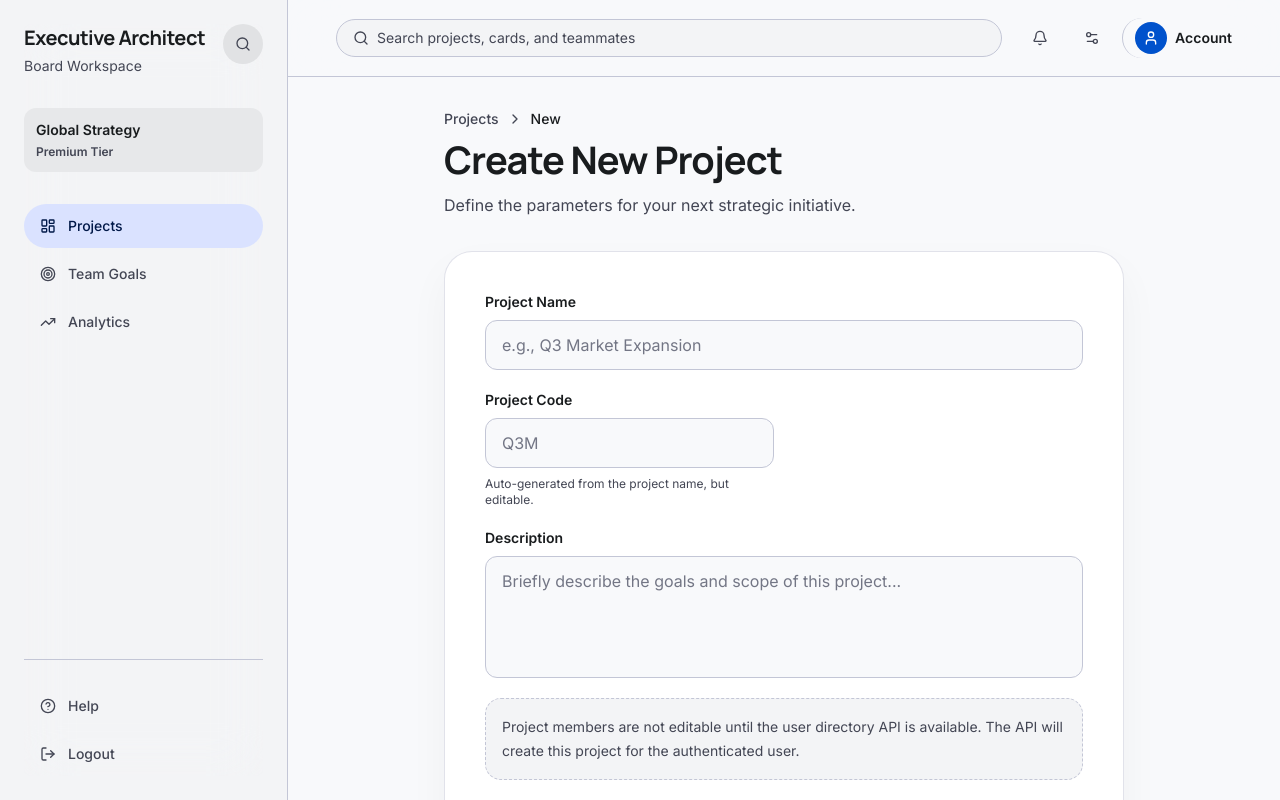
Test: CreateProjectPage › validates the three-character uppercase project code before submit
Type "A" into the field labelled "Project Name".
click(784, 345); type("A")  # box [485,320,1083,370]
(page scrolled)
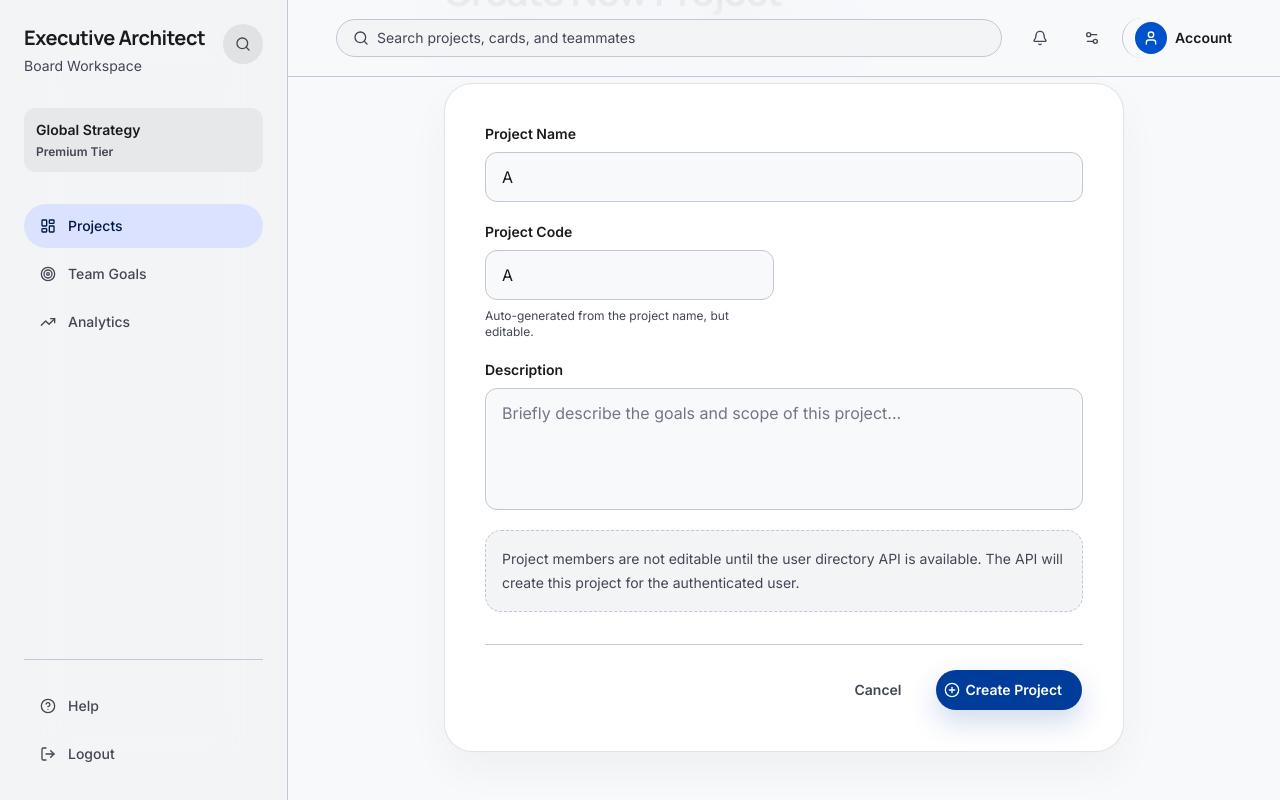
Submit the form named "create project", box [485,124,1083,711]
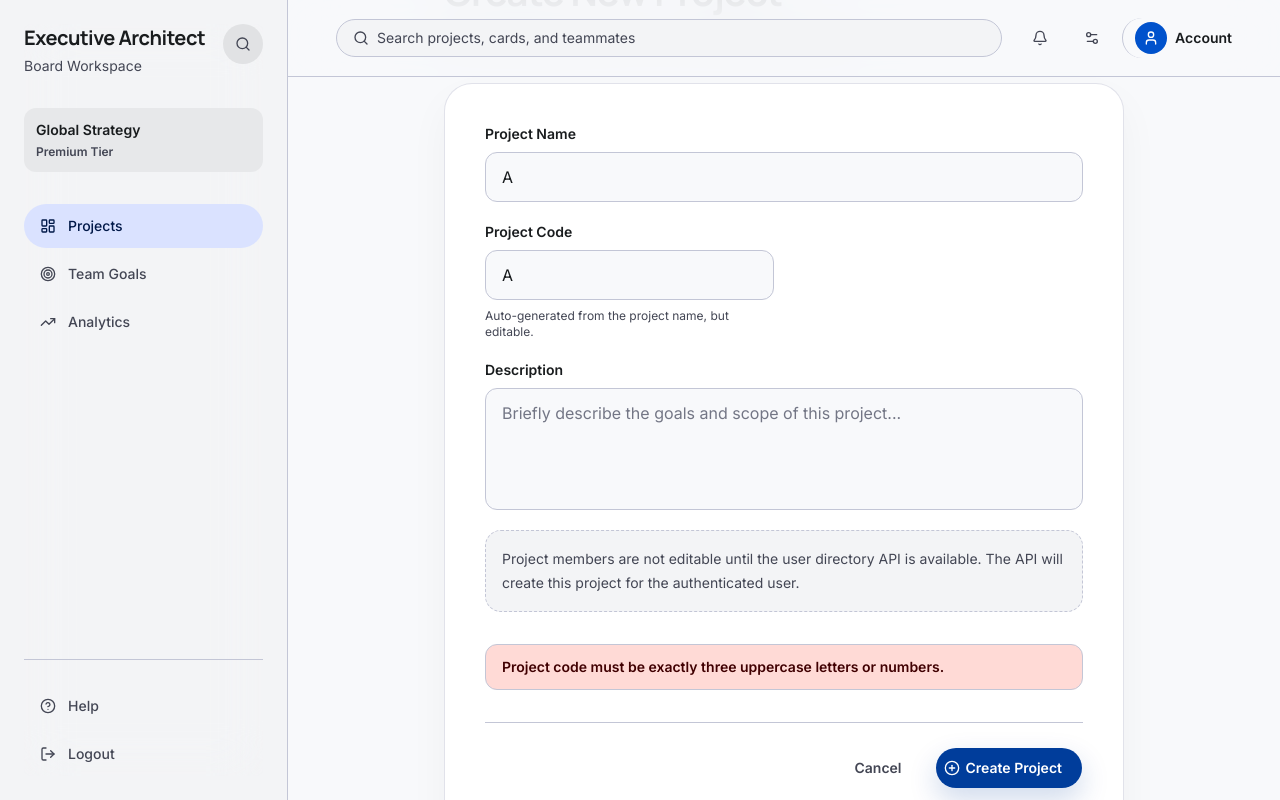
Now the text "Project code must be exactly three uppercase letters or numbers." is shown, box [485,644,1083,690]
